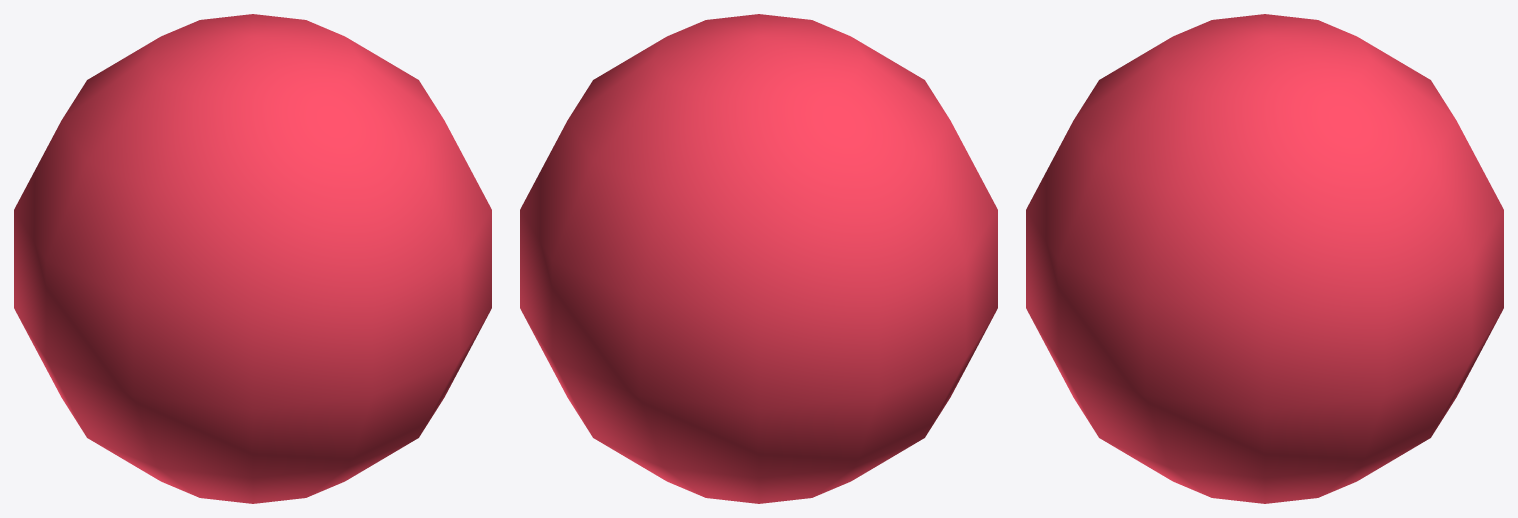
The model's file is DropBall.gltf.
The picture shows the model from 3 angles, left to right: view 1: azimuth 30°, elevation 25°; view 2: azimuth 150°, elevation 25°; view 3: azimuth 270°, elevation 25°; orthographic projection.
Parts seen in each view (by area): view 1: 球; view 2: 球; view 3: 球.
Boxes of the visible parts, x1,y1,x2,y2 form: 球: (14,14,491,503); 球: (520,14,997,503); 球: (1026,14,1503,503).
Size of the model in its own units: 0.4875 by 0.5 by 0.4875.
